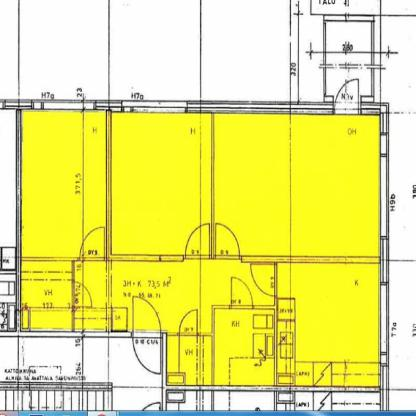door: (214, 111, 380, 256), (22, 109, 108, 329), (112, 112, 212, 252), (278, 264, 378, 386), (110, 264, 199, 332), (20, 260, 106, 328), (200, 260, 274, 333), (215, 309, 275, 388), (130, 295, 163, 382), (166, 336, 212, 386), (184, 222, 212, 262), (80, 223, 107, 263), (214, 222, 240, 261), (248, 264, 276, 297), (332, 81, 358, 116), (231, 276, 252, 310), (180, 306, 199, 337), (72, 284, 93, 306)
window: (122, 100, 186, 113), (32, 99, 95, 112), (380, 239, 388, 281)
